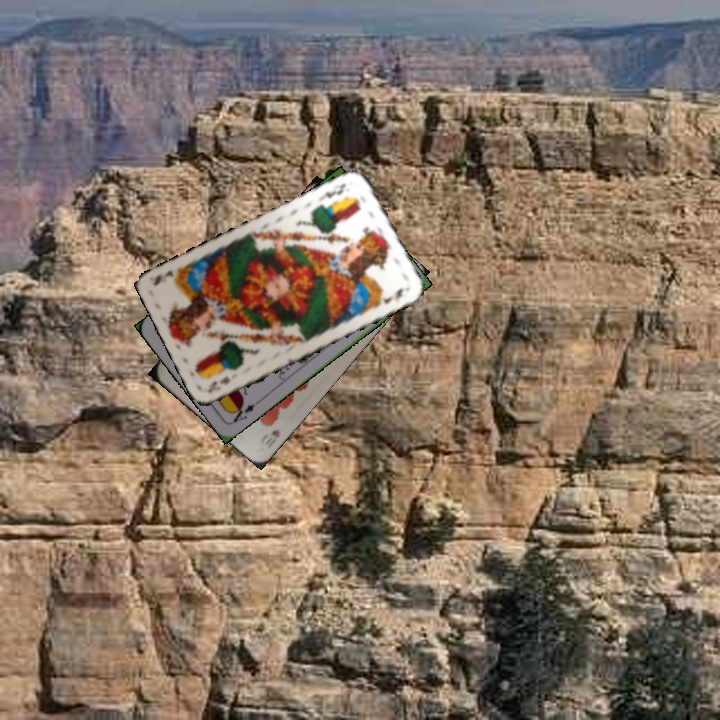EA: (227, 396, 263, 426)
EK: (204, 372, 233, 395), (319, 179, 348, 202)
H10: (257, 425, 283, 447)
